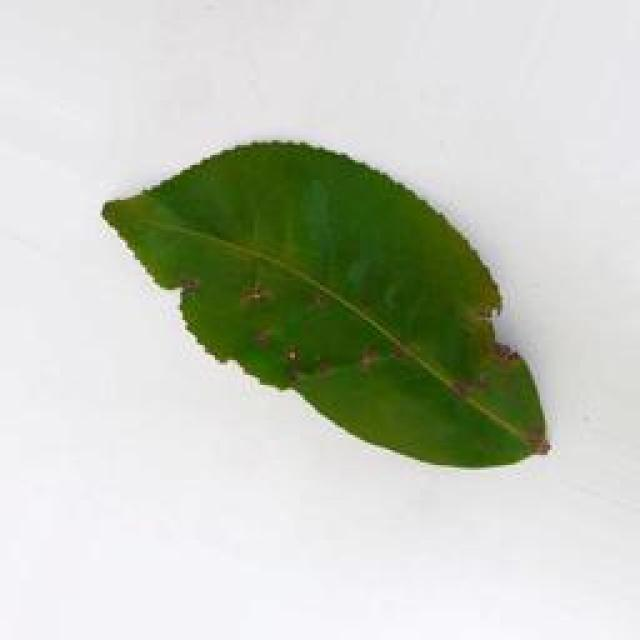Helopeltis: (102, 138, 559, 474)
